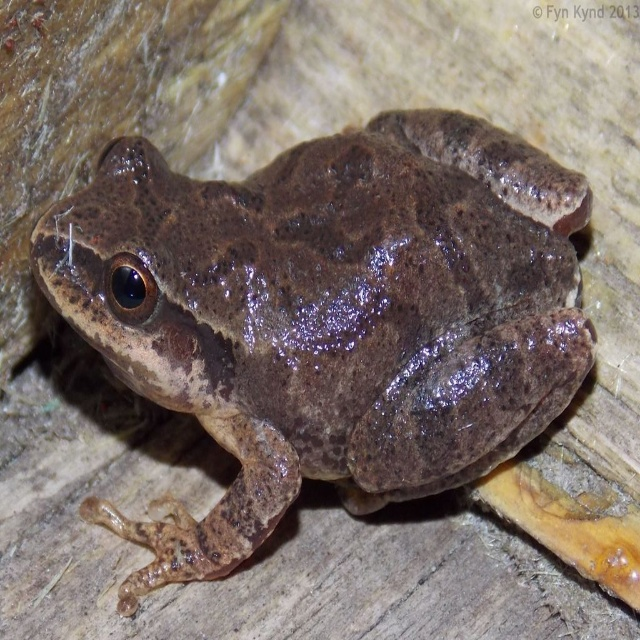Frog: (28, 104, 595, 615)
